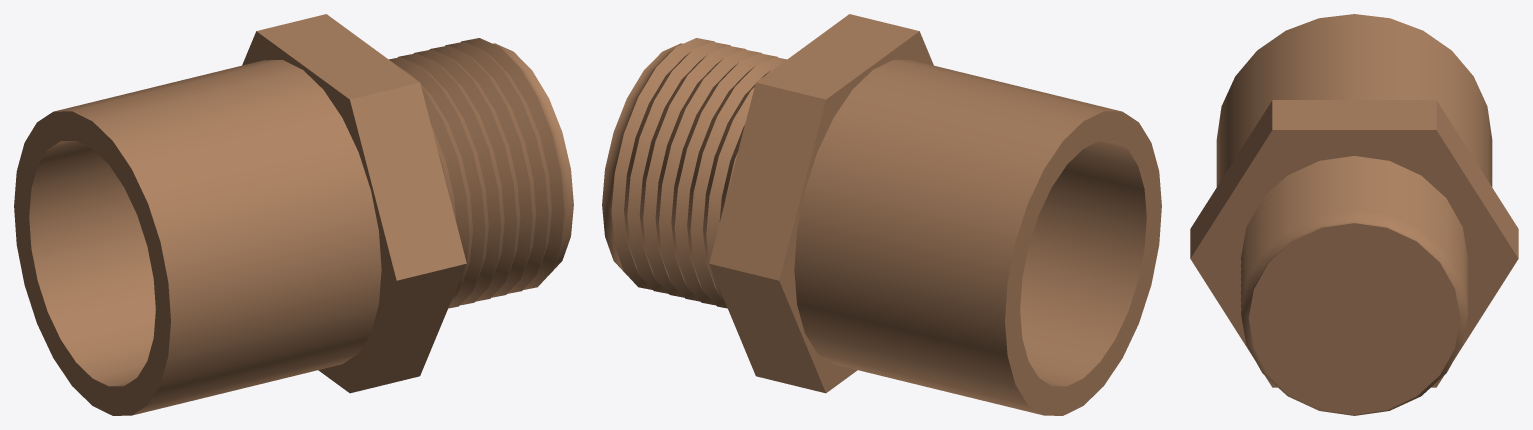
Rendered from HID-CNX-006.glb.
3 renders of one model, left to right at view 1: azimuth 30°, elevation 25°; view 2: azimuth 150°, elevation 25°; view 3: azimuth 270°, elevation 25°, orthographic. The views are drawn at different scales.
Parts seen in each view (by area): view 1: HID-CNX-006_bolsa, HID-CNX-006_sext, HID-CNX-006_rosca; view 2: HID-CNX-006_bolsa, HID-CNX-006_sext, HID-CNX-006_rosca; view 3: HID-CNX-006_rosca, HID-CNX-006_sext, HID-CNX-006_bolsa.
Boxes of the visible parts, x1,y1,x2,y2 form: HID-CNX-006_bolsa: (14,60,381,415); HID-CNX-006_sext: (242,14,466,393); HID-CNX-006_rosca: (389,38,573,308); HID-CNX-006_bolsa: (794,60,1161,415); HID-CNX-006_sext: (709,14,933,393); HID-CNX-006_rosca: (602,38,786,308); HID-CNX-006_rosca: (1241,156,1467,415); HID-CNX-006_sext: (1190,100,1518,387); HID-CNX-006_bolsa: (1216,14,1492,186).
Size of the model in its own units: 0.048 by 0.032 by 0.037.
